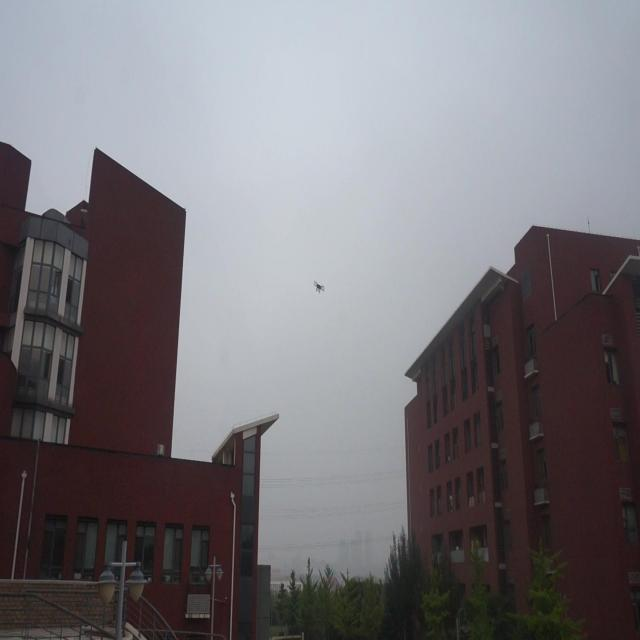UAV: (313, 280, 325, 294)
